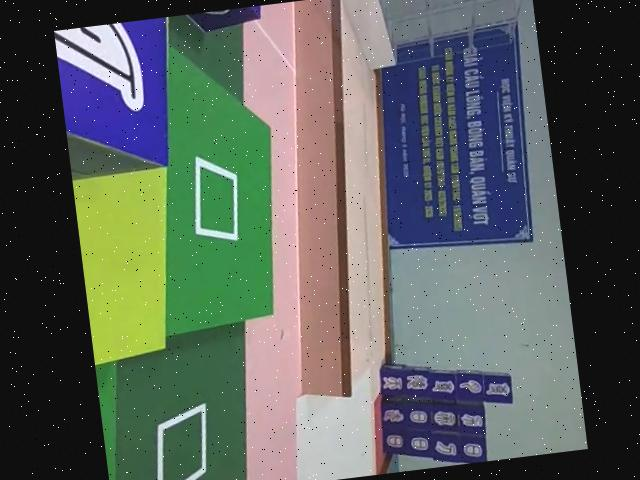R2 Real Blue: (53, 17, 185, 181), (53, 17, 185, 176), (162, 6, 266, 40)
